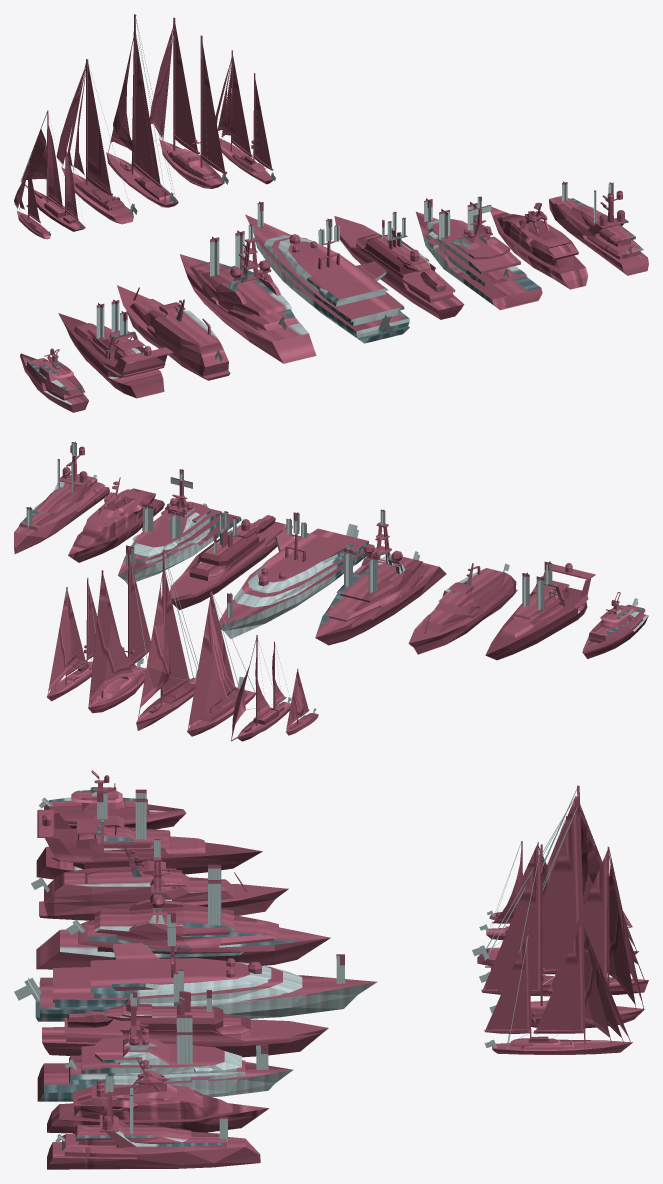
The model's file is jy_chuan01.FBX.
3 views of the same model, one above another, from view 1: azimuth 30°, elevation 25°; view 2: azimuth 150°, elevation 25°; view 3: azimuth 270°, elevation 25° (orthographic). The views are drawn at different scales.
Visible parts, largest first — view 1: jy_chuan011, jy_chuan10, jy_chuan13, jy_chuan05, jy_chuan12, jy_chuan08, jy_chuan09, jy_chuan04, jy_chuan03, jy_chuan15, jy_chuan14, jy_chuan06 (+3 smaller); view 2: jy_chuan011, jy_chuan10, jy_chuan13, jy_chuan05, jy_chuan12, jy_chuan08, jy_chuan04, jy_chuan09, jy_chuan03, jy_chuan15, jy_chuan14, jy_chuan06 (+3 smaller); view 3: jy_chuan011, jy_chuan10, jy_chuan13, jy_chuan06, jy_chuan12, jy_chuan05, jy_chuan15, jy_chuan08, jy_chuan09, jy_chuan14, jy_chuan04, jy_chuan07 (+2 smaller).
Part boxes in pixels (x1,y1,x2,y2): jy_chuan011: [245, 201, 409, 343]; jy_chuan10: [179, 224, 316, 363]; jy_chuan13: [416, 196, 542, 310]; jy_chuan05: [149, 17, 228, 188]; jy_chuan12: [334, 212, 464, 319]; jy_chuan08: [58, 299, 173, 398]; jy_chuan09: [117, 285, 230, 380]; jy_chuan04: [106, 14, 178, 207]; jy_chuan03: [56, 59, 137, 224]; jy_chuan15: [549, 181, 648, 275]; jy_chuan14: [487, 202, 588, 289]; jy_chuan06: [215, 50, 275, 184]; jy_chuan011: [219, 512, 368, 638]; jy_chuan10: [315, 509, 446, 645]; jy_chuan13: [118, 469, 241, 584]; jy_chuan05: [88, 549, 150, 713]; jy_chuan12: [169, 511, 292, 610]; jy_chuan08: [485, 561, 595, 660]; jy_chuan04: [136, 549, 198, 730]; jy_chuan09: [408, 563, 517, 654]; jy_chuan03: [187, 591, 255, 736]; jy_chuan15: [14, 441, 109, 553]; jy_chuan14: [68, 477, 164, 562]; jy_chuan06: [47, 577, 97, 701]; jy_chuan011: [14, 912, 377, 1021]; jy_chuan10: [36, 839, 330, 969]; jy_chuan13: [37, 992, 293, 1101]; jy_chuan06: [484, 920, 632, 1054]; jy_chuan12: [42, 969, 328, 1057]; jy_chuan05: [481, 844, 644, 1028]; jy_chuan15: [47, 1075, 260, 1169]; jy_chuan08: [36, 789, 262, 879]; jy_chuan09: [31, 846, 288, 920]; jy_chuan14: [47, 1057, 268, 1133]; jy_chuan04: [479, 785, 648, 996]; jy_chuan07: [39, 770, 186, 829].
Bounding box in the file's own units: 12027 × 3298 × 9140.
